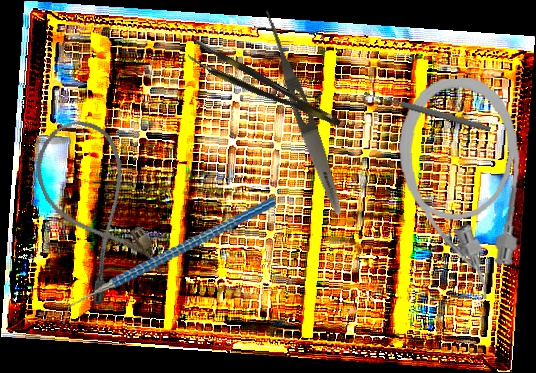Cannula: (394, 75, 528, 304), (22, 109, 168, 309)
Chopper: (49, 195, 288, 328)
Dressing Forceps: (255, 5, 349, 218)
Surgical Spoon: (363, 89, 492, 133)
Tissue Forceps: (185, 38, 343, 140)
